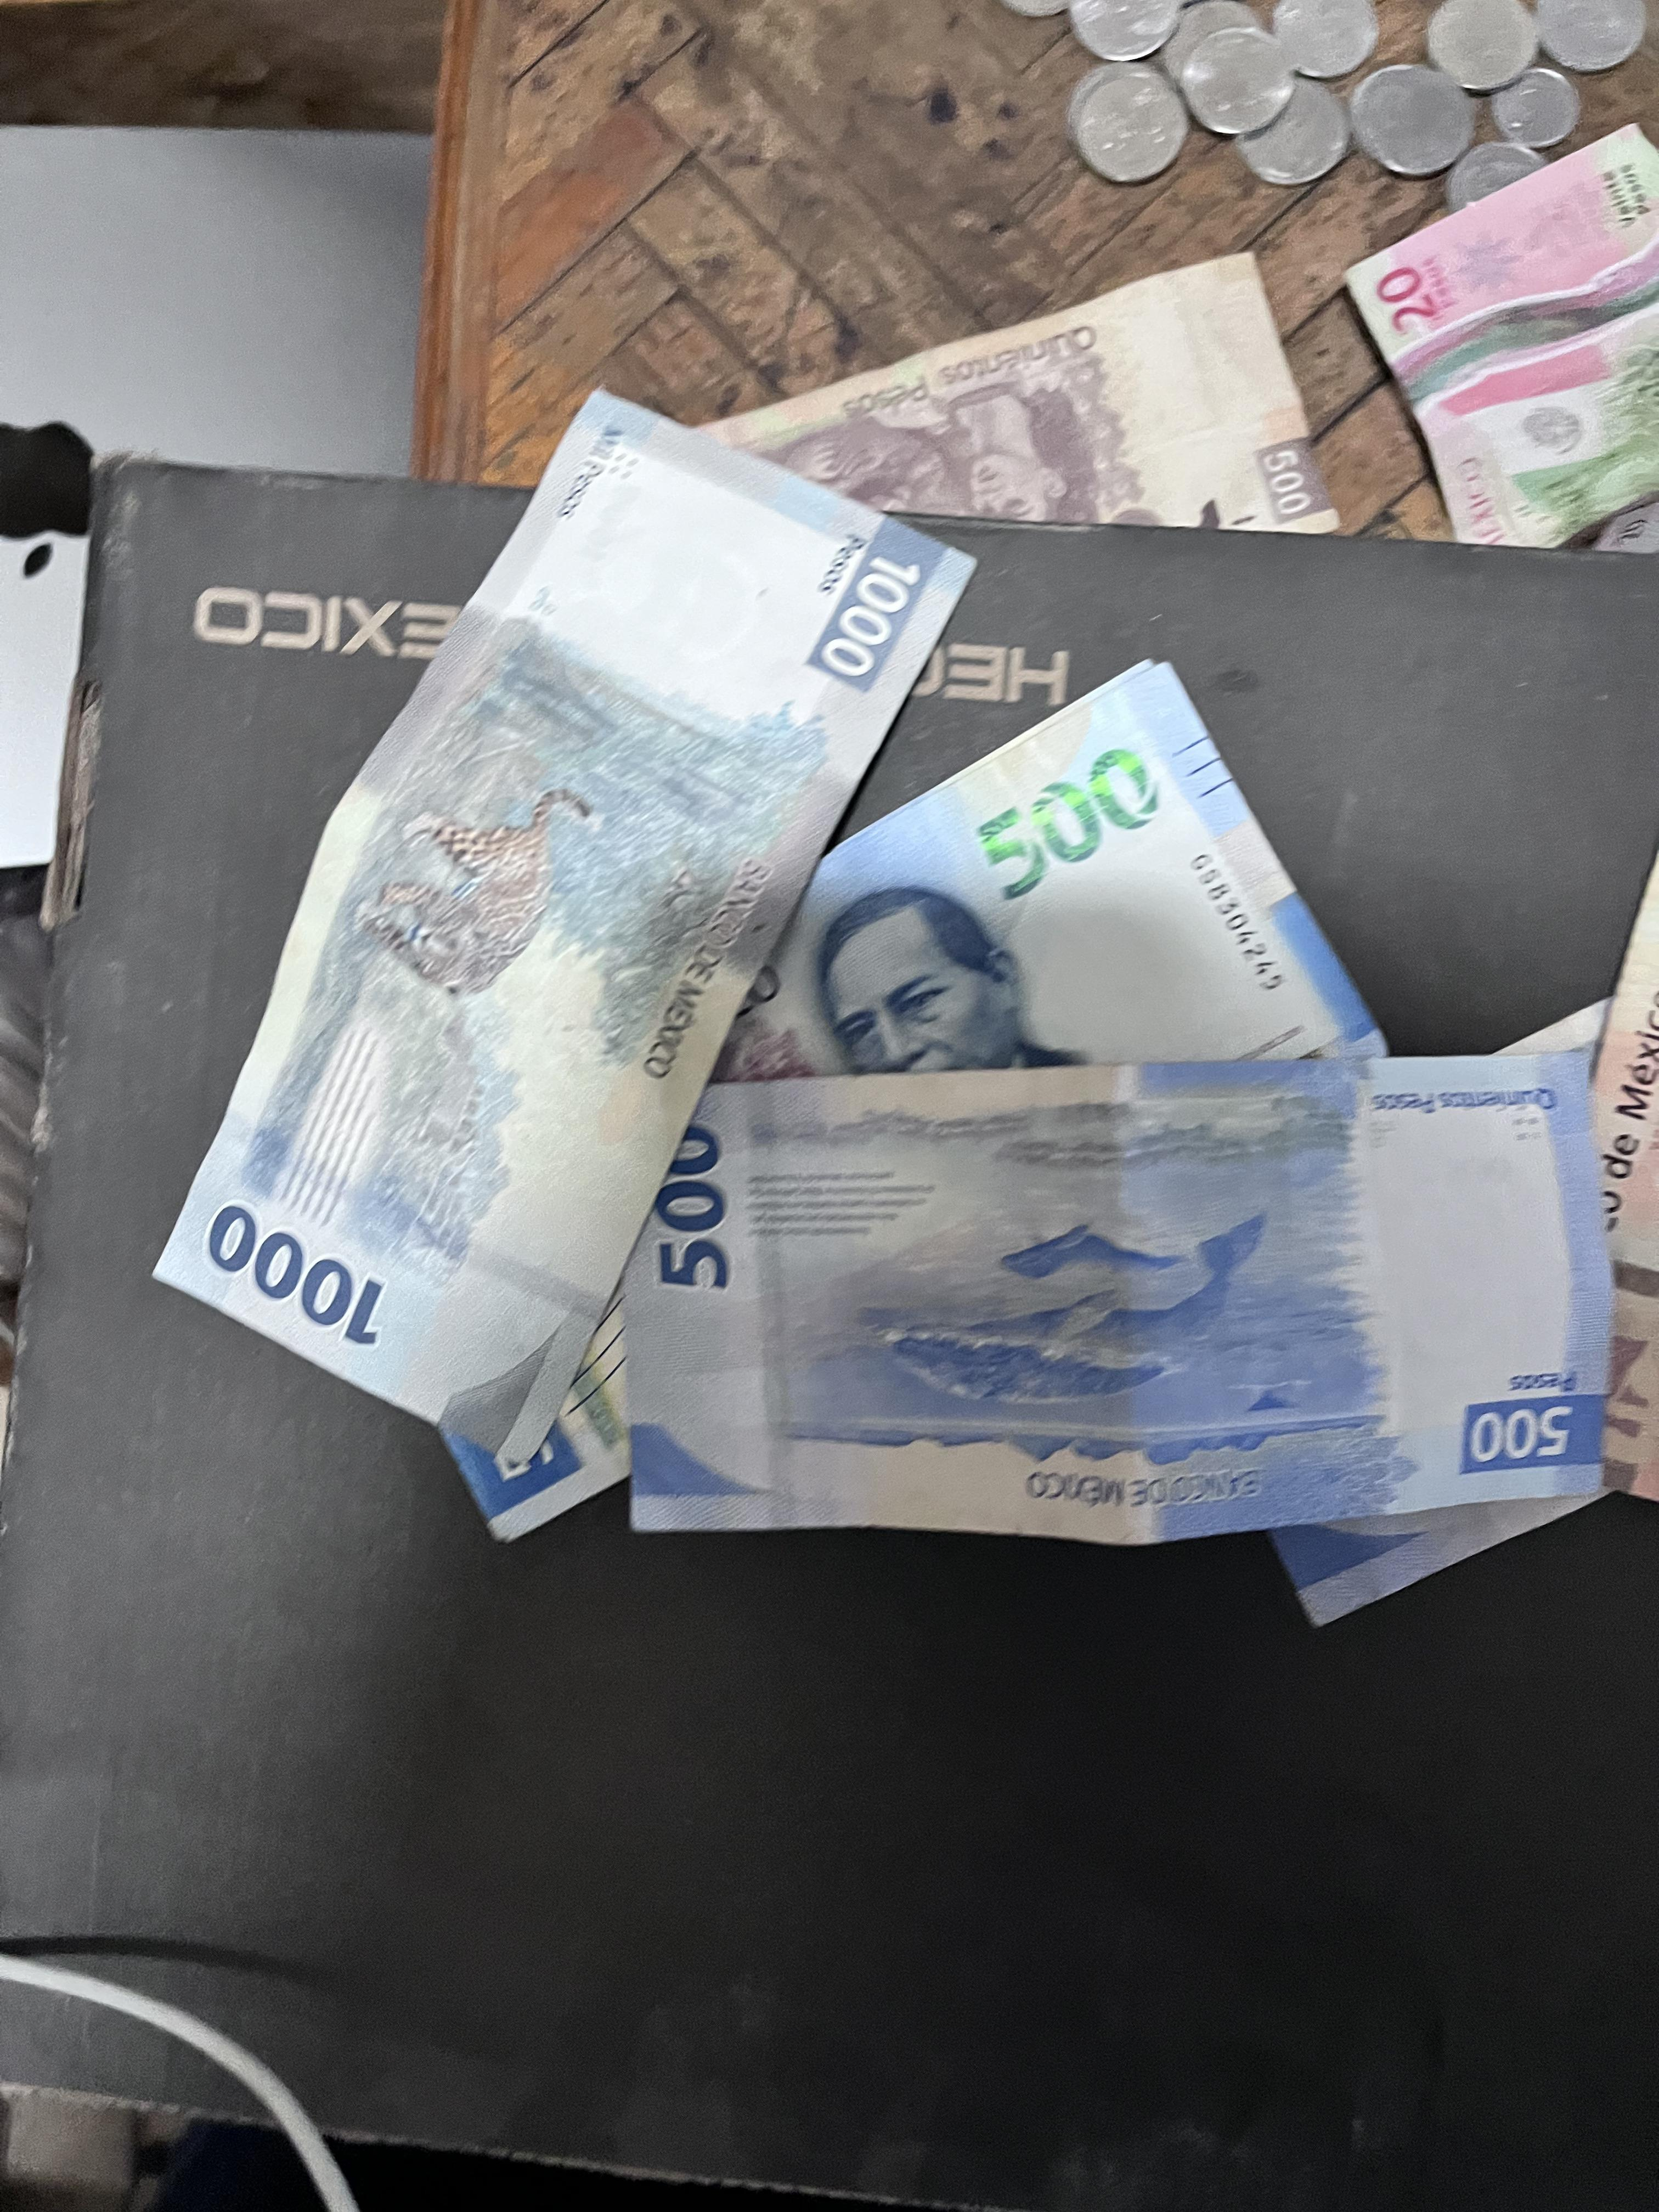1000: (198, 351, 983, 1504)
20: (1319, 91, 1659, 597)
500: (573, 277, 1452, 561)
500 nuevo: (365, 634, 1392, 1556), (551, 1034, 1639, 1602)
